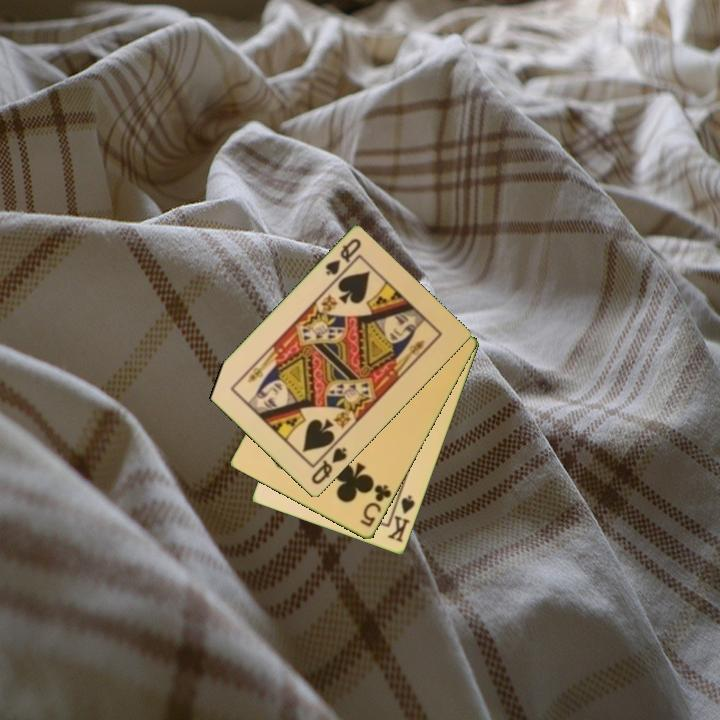5c: (357, 481, 395, 530)
Ks: (384, 489, 418, 545)
Qs: (308, 444, 350, 488), (322, 235, 364, 279)
